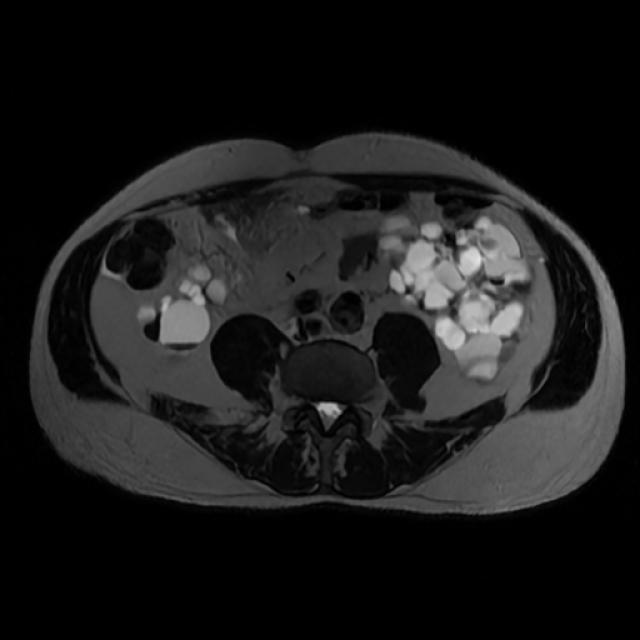sag: (135, 259, 228, 355)
sol: (377, 212, 534, 383)
